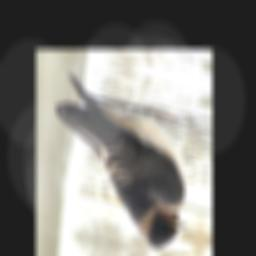Swallow: (45, 68, 197, 256)
